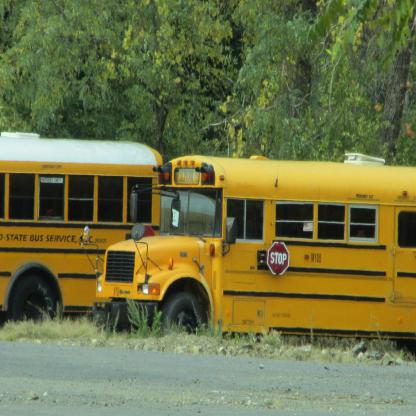Bus: (78, 152, 416, 357), (0, 132, 164, 324)
